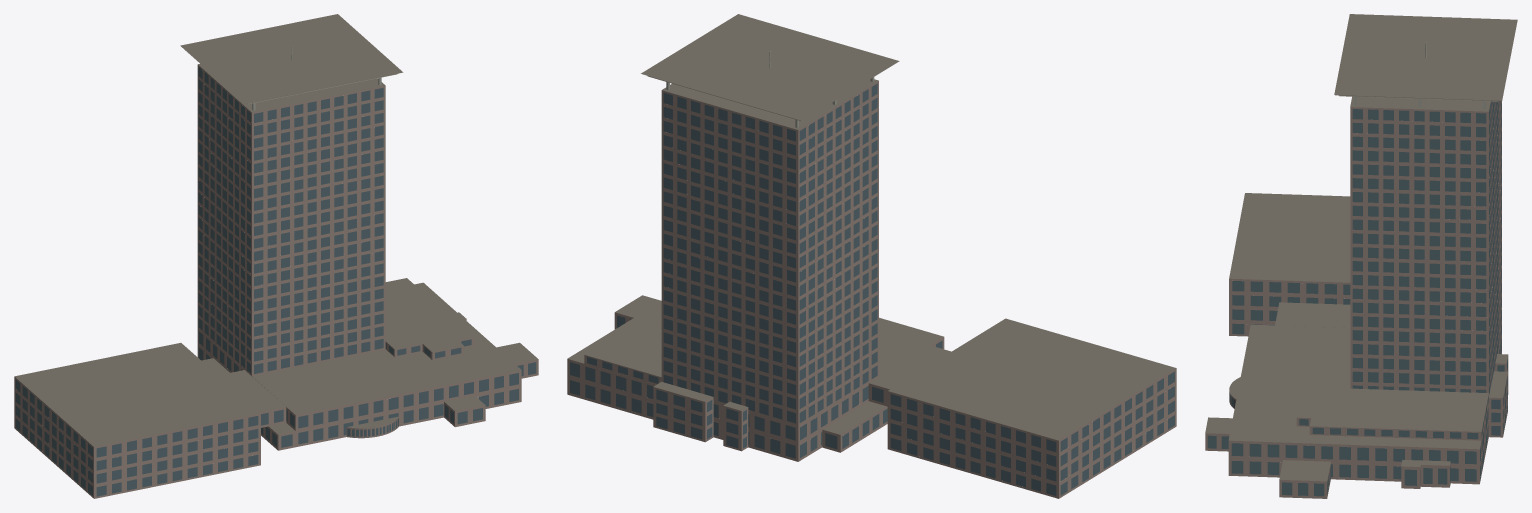
Rendered from hotel-okura-amsterdam-near.glb.
3 views of the same model, side by side, from view 1: azimuth 30°, elevation 25°; view 2: azimuth 150°, elevation 25°; view 3: azimuth 270°, elevation 25° (orthographic). The views are drawn at different scales.
Parts seen in each view (by area): view 1: hotel-okura-amsterdam-0-roof, hotel-okura-amsterdam-0-stone, hotel-okura-amsterdam-0-glass; view 2: hotel-okura-amsterdam-0-stone, hotel-okura-amsterdam-0-glass, hotel-okura-amsterdam-0-roof; view 3: hotel-okura-amsterdam-0-roof, hotel-okura-amsterdam-0-stone, hotel-okura-amsterdam-0-glass.
Boxes of the visible parts, x1,y1,x2,y2 form: hotel-okura-amsterdam-0-roof: (14,14,538,446); hotel-okura-amsterdam-0-stone: (14,64,538,498); hotel-okura-amsterdam-0-glass: (15,67,536,496); hotel-okura-amsterdam-0-stone: (567,81,1176,498); hotel-okura-amsterdam-0-glass: (570,83,1174,495); hotel-okura-amsterdam-0-roof: (567,14,1176,440); hotel-okura-amsterdam-0-roof: (1205,14,1517,481); hotel-okura-amsterdam-0-stone: (1205,101,1508,498); hotel-okura-amsterdam-0-glass: (1207,101,1507,496).
Size of the model in its own units: 121 by 81.5 by 64.42.
